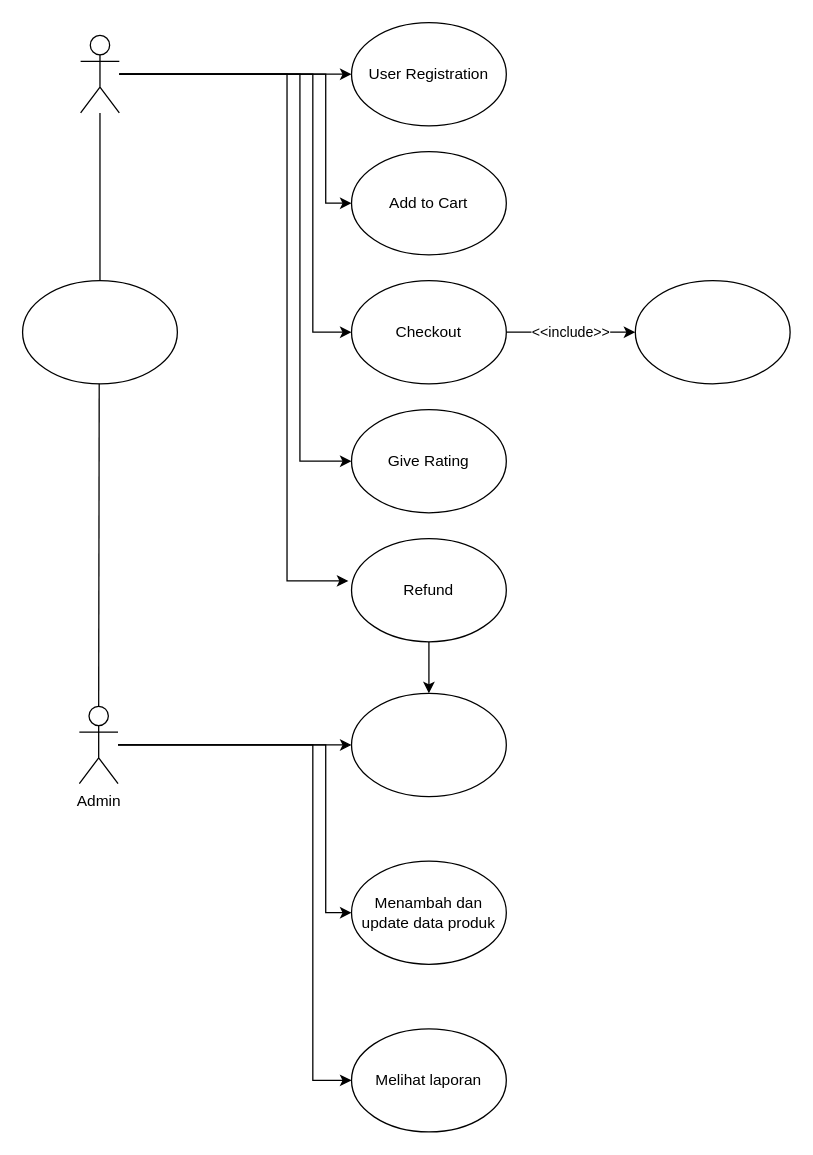
Some shapes in this 813 by 1155 pixel diagram are drawn without their labels. Here are the shapes that lost their labels. From the top down, the centre of each, then its label:
At point 99,73: "Customer".
At point 99,331: "Login".
At point 712,331: "Choose Payment Method".
At point 428,744: "Konfirmasi Refund".
